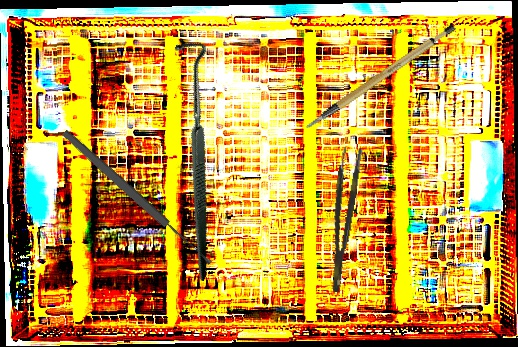Hook Surgical: (88, 34, 297, 282)
Scalpel Handle: (290, 21, 468, 131)
Surgical Spoon: (60, 127, 214, 269)
Tissue Forceps: (319, 146, 364, 293)
